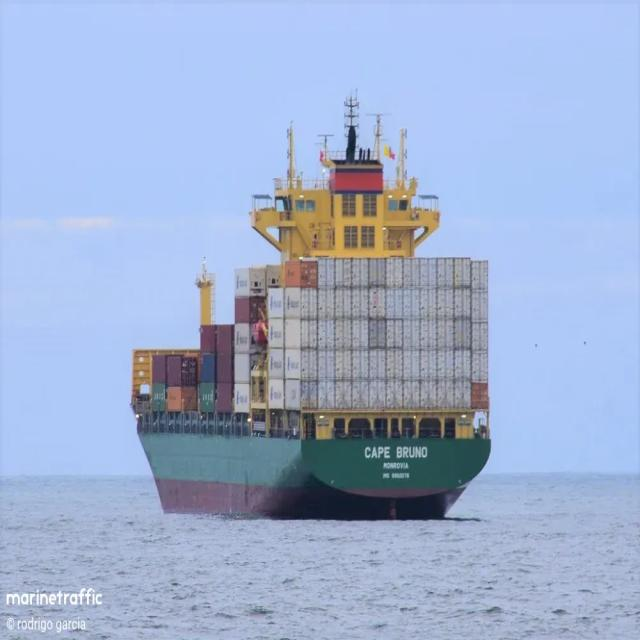Cargo: (131, 97, 490, 518)
